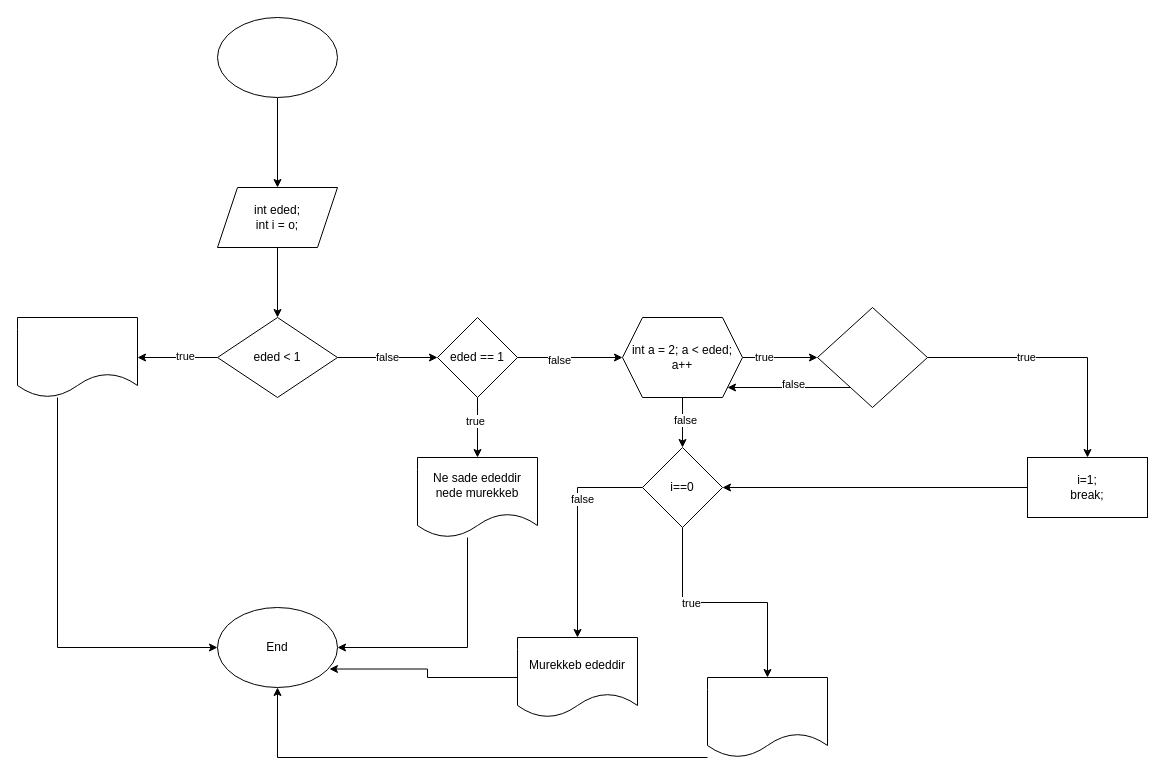
This 1165x783 diagram has some shape labels left out. The centre of each missing label's shape, as x and y in pixels:
"Duzgun eded daxil edin" goes at point 77,357.
"eded % a== 0" goes at point 872,357.
"Sade ededdir" goes at point 767,717.
"Start" goes at point 277,57.
